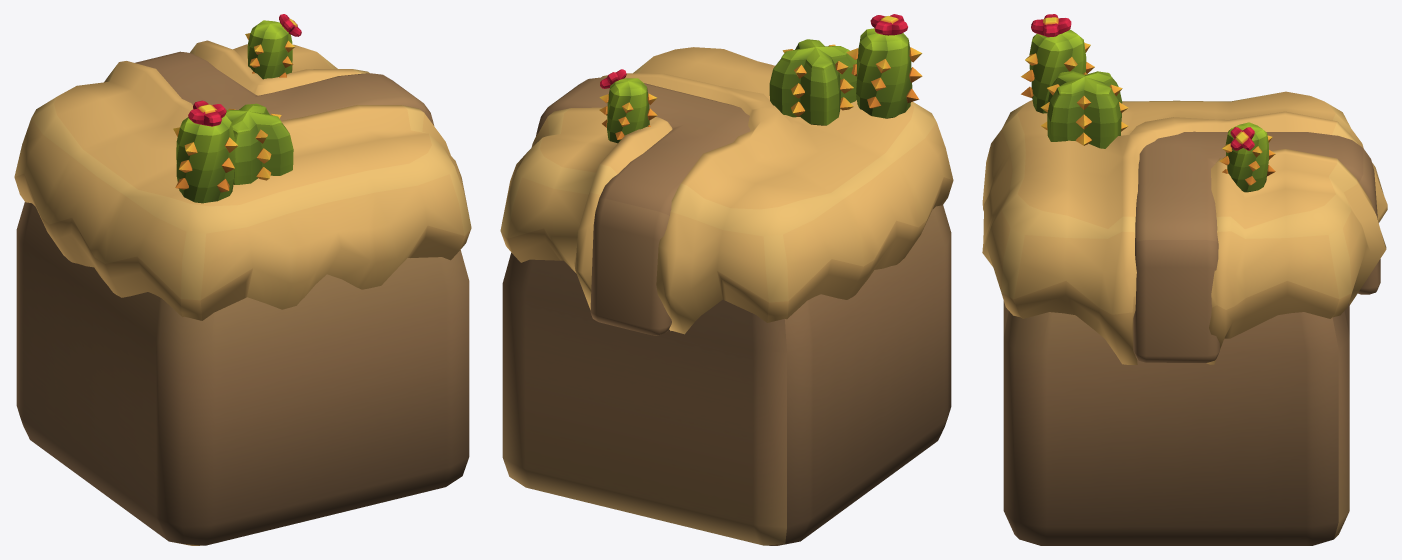
File: Desert2.fbx
3 renders of one model, left to right at view 1: azimuth 30°, elevation 25°; view 2: azimuth 150°, elevation 25°; view 3: azimuth 270°, elevation 25°, orthographic. The views are drawn at different scales.
Parts seen in each view (by area): view 1: Desert2, Desert_Cube2.005, Desert_Cube_02 .002, Road.003; view 2: Desert2, Desert_Cube2.005, Road.003, Desert_Cube_02 .002; view 3: Desert2, Desert_Cube2.005, Road.003, Desert_Cube_02 .002.
Boxes of the visible parts, box(x1,y1,x2,y2) form: Desert2: box(16, 202, 469, 545); Desert_Cube2.005: box(14, 40, 471, 320); Desert_Cube_02 .002: box(173, 14, 301, 203); Road.003: box(135, 51, 434, 125); Desert2: box(502, 205, 951, 545); Desert_Cube2.005: box(500, 47, 953, 334); Road.003: box(536, 77, 750, 335); Desert_Cube_02 .002: box(599, 14, 922, 143); Desert2: box(1003, 301, 1349, 545); Desert_Cube2.005: box(982, 91, 1387, 364); Road.003: box(1133, 131, 1380, 362); Desert_Cube_02 .002: box(1021, 14, 1275, 192).
Size of the model in its own units: 116 by 134 by 117.
